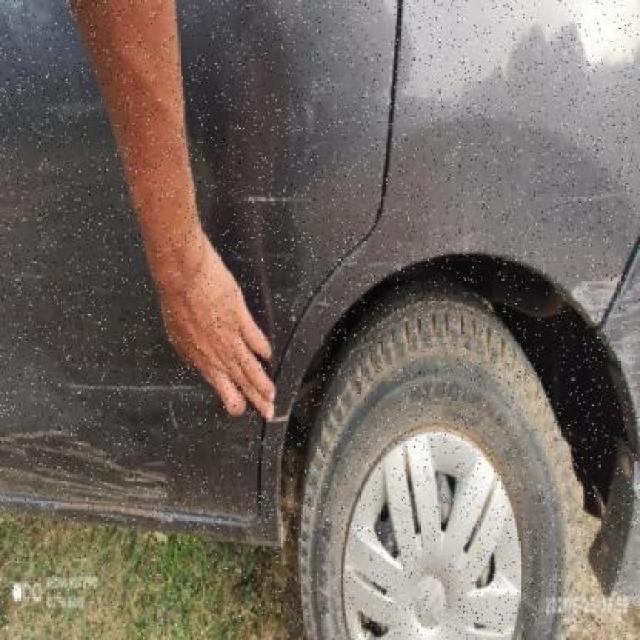doorouter-dent: (0, 0, 278, 518)
quaterpanel-dent: (383, 3, 624, 364)
